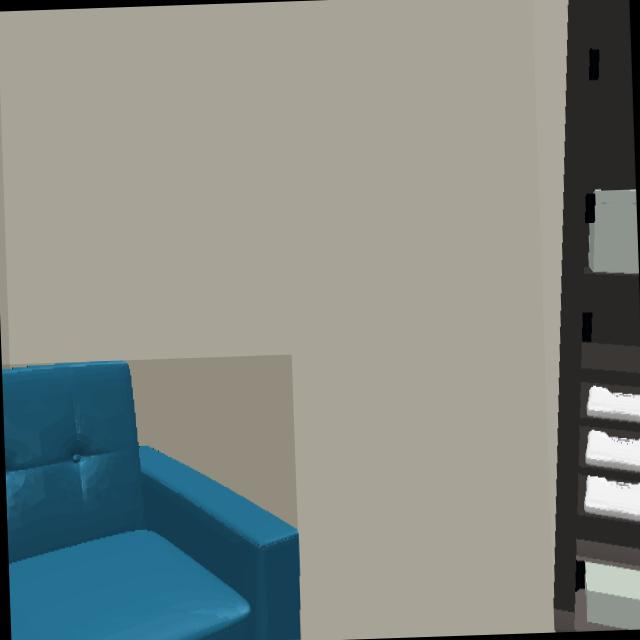sofa: (2, 361, 299, 640)
wardrobe: (554, 0, 640, 630)
